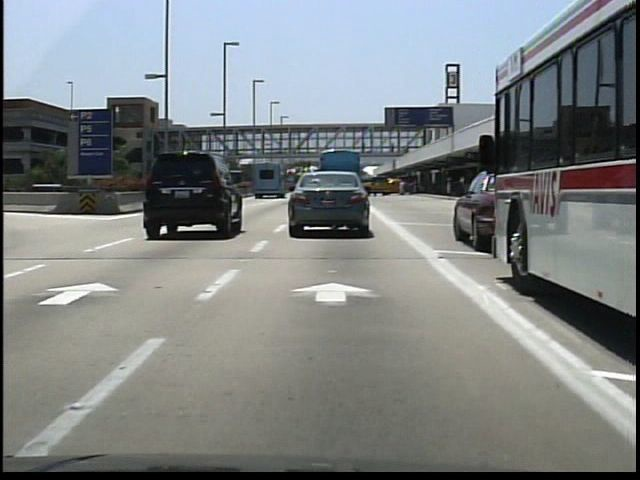person: (395, 176, 409, 199), (386, 136, 399, 158), (357, 137, 370, 157)
